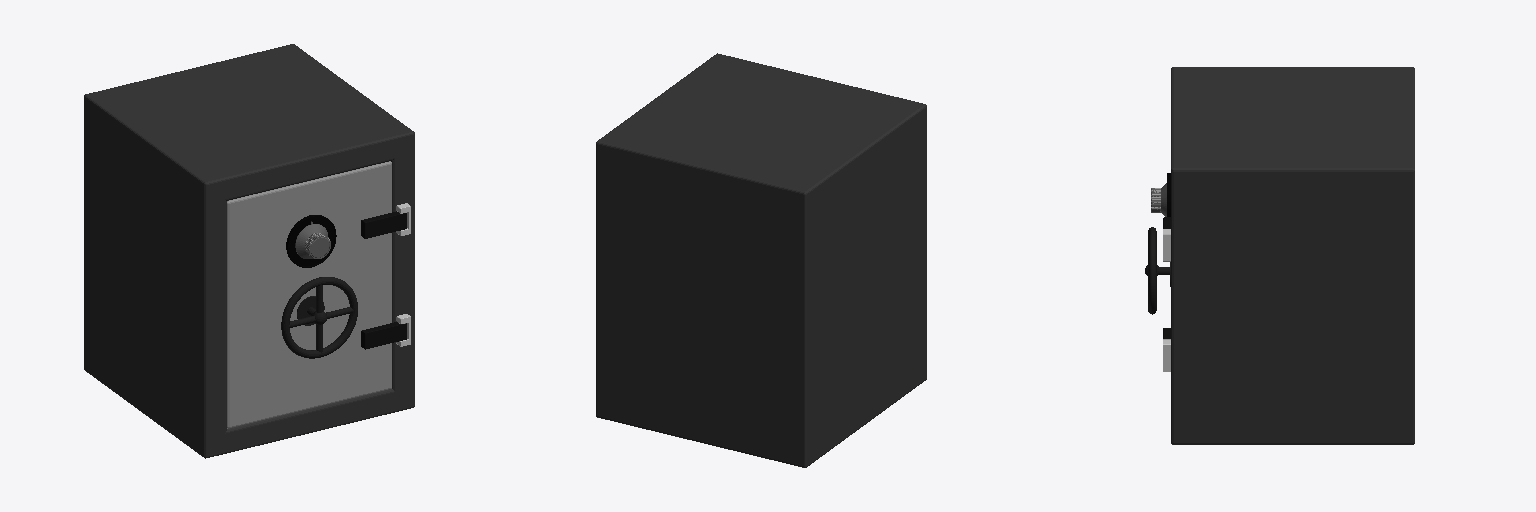
File: safe.obj
The picture shows the model from 3 angles: view 1: azimuth 30°, elevation 25°; view 2: azimuth 150°, elevation 25°; view 3: azimuth 270°, elevation 25°; orthographic projection.
Visible parts, largest first — view 1: Bank-Safe_Bank-Safe-Main, Bank-Safe_Bank-Safe-Door, Bank-Safe_Bank-Safe-Door_Hand, Bank-Safe_Bank-Safe-Door_Arms, Bank-Safe_Bank-Safe-Door_Lock, Bank-Safe_Bank-Safe-Door_Lock_Knob, Bank-Safe_Bank-Safe-Main_Bank-Safe-Jt; view 2: Bank-Safe_Bank-Safe-Main; view 3: Bank-Safe_Bank-Safe-Main, Bank-Safe_Bank-Safe-Door_Hand, Bank-Safe_Bank-Safe-Main_Bank-Safe-Jt.
Boxes of the visible parts, x1,y1,x2,y2 form: Bank-Safe_Bank-Safe-Main: [84, 44, 414, 458]; Bank-Safe_Bank-Safe-Door: [227, 161, 391, 428]; Bank-Safe_Bank-Safe-Door_Hand: [281, 277, 357, 358]; Bank-Safe_Bank-Safe-Door_Arms: [361, 211, 406, 349]; Bank-Safe_Bank-Safe-Door_Lock: [286, 215, 336, 267]; Bank-Safe_Bank-Safe-Door_Lock_Knob: [295, 221, 330, 258]; Bank-Safe_Bank-Safe-Main_Bank-Safe-Jt: [396, 203, 410, 346]; Bank-Safe_Bank-Safe-Main: [596, 53, 926, 467]; Bank-Safe_Bank-Safe-Main: [1171, 67, 1414, 444]; Bank-Safe_Bank-Safe-Door_Hand: [1145, 227, 1170, 314]; Bank-Safe_Bank-Safe-Main_Bank-Safe-Jt: [1163, 229, 1170, 371].
Bounding box in the file's own units: 120 × 150 × 133.